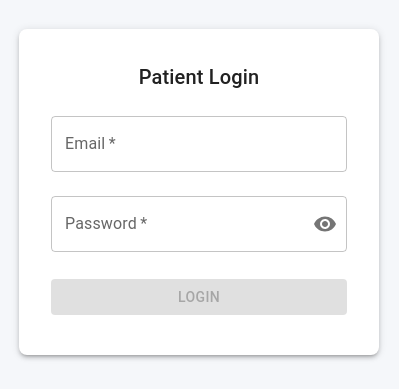
Test: PatientLogin UI and validation › shows error for invalid email format
The image size is (399, 389).
In the field labelled "Email *": (199, 144) [51, 116, 347, 172], type "invalid"
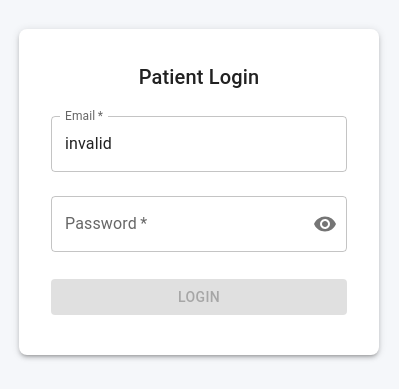
Leave the field labelled "Email *", box [51, 116, 347, 172]
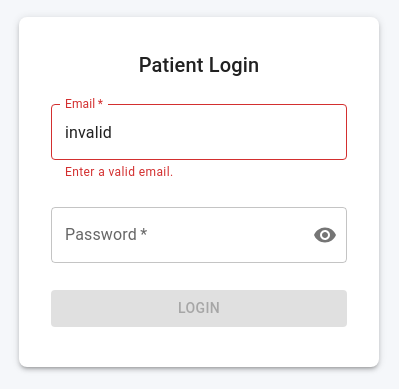
Now the text "Enter a valid email." is shown, box [65, 165, 174, 179]
